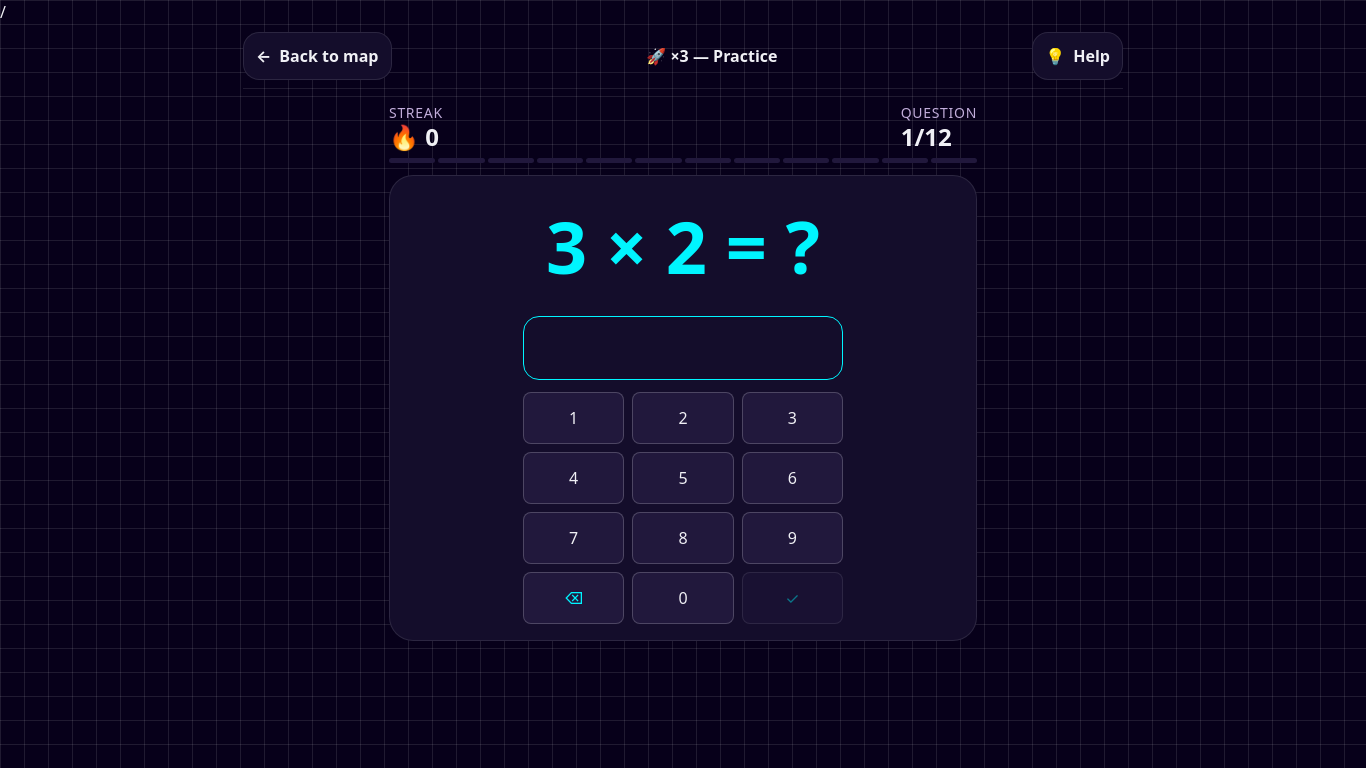
Test case: PracticePhase dialogs behave like modals › closes the strategy card with Escape and returns focus to the hint button
This screenshot has width=1366, height=768.
Click the button "💡 Help".
click(1078, 56)  # box 1032,32 -> 1123,80
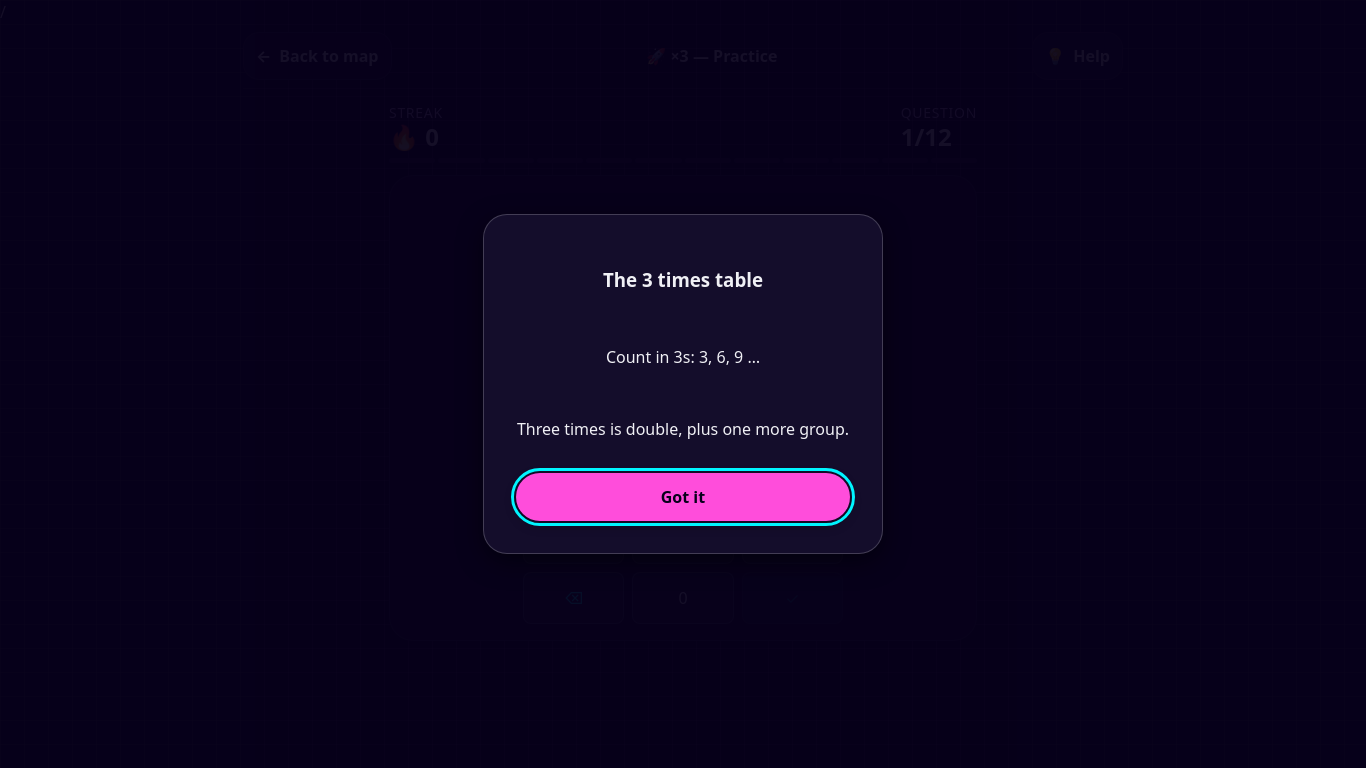
expect the dialog is shown: met, box 483,214 -> 883,554
Press Escape
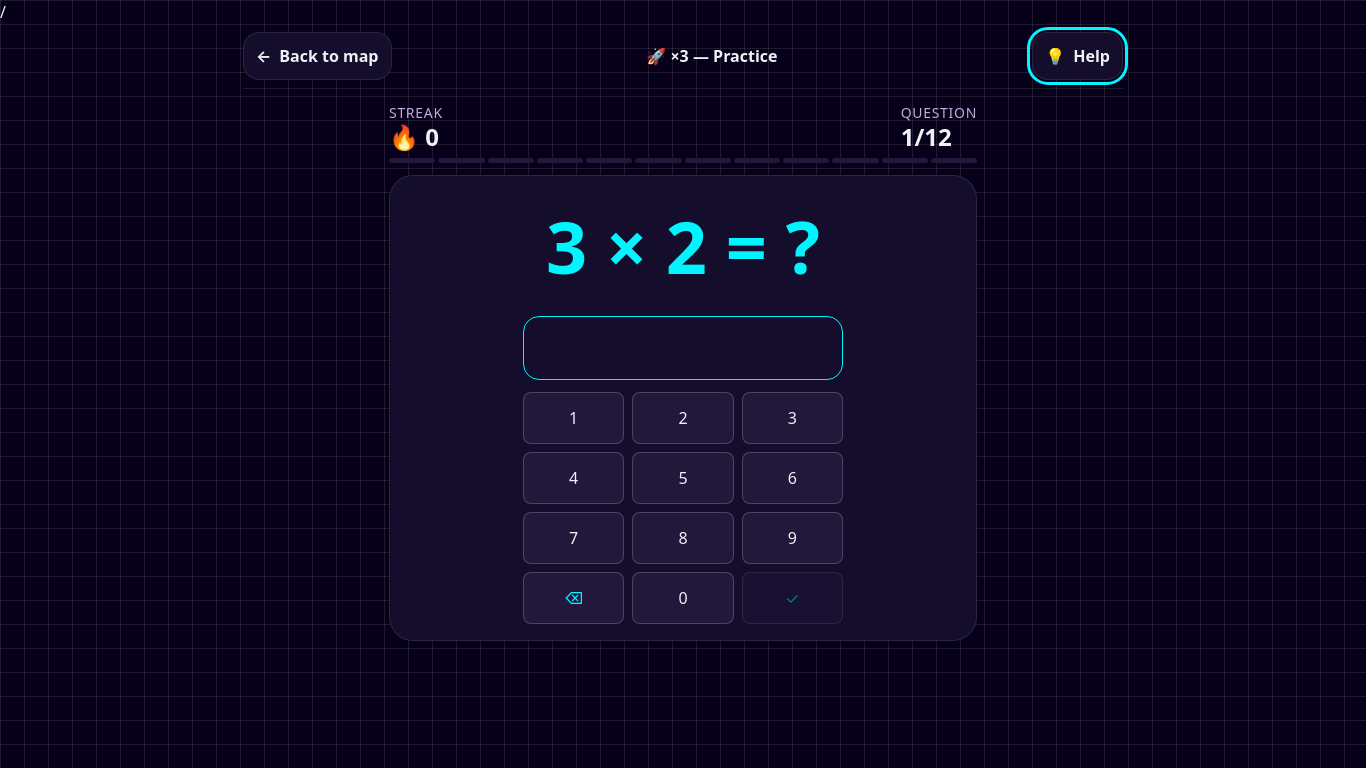
expect the dialog is gone: met
